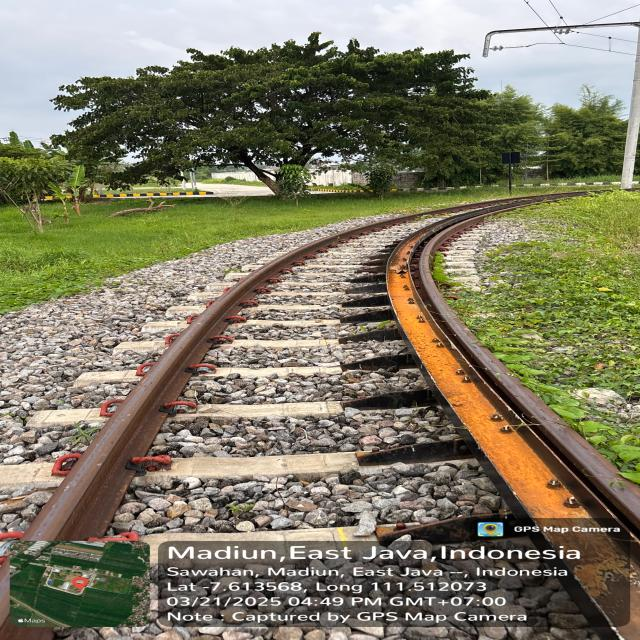rail-detection: (23, 205, 470, 541), (385, 193, 640, 640), (533, 402, 638, 513)
